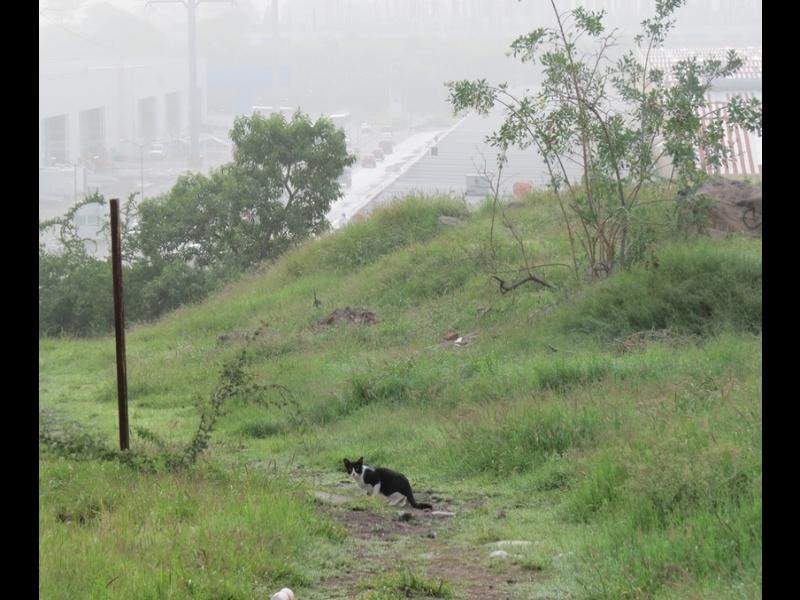cat: (343, 456, 437, 512)
